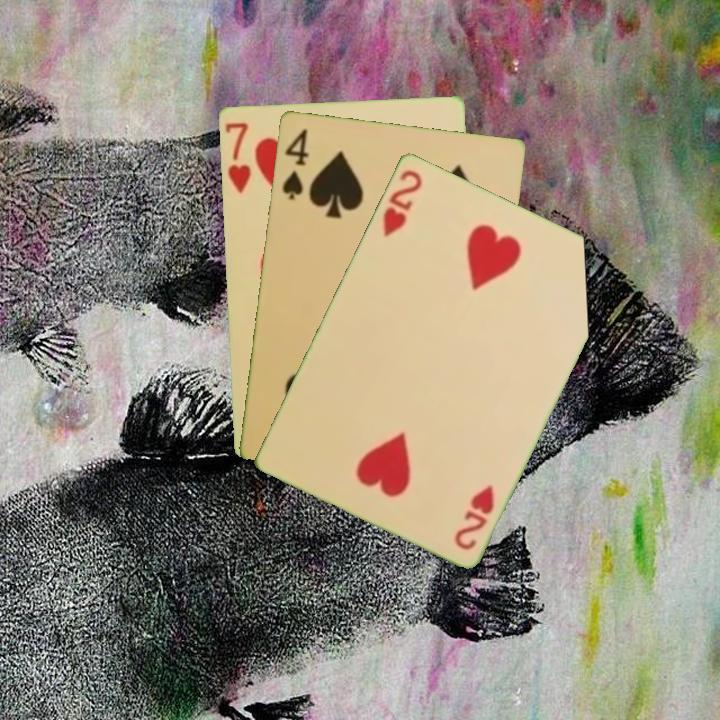2h: (379, 165, 425, 239), (450, 481, 497, 553)
4s: (278, 124, 311, 203)
7h: (221, 118, 253, 197)
